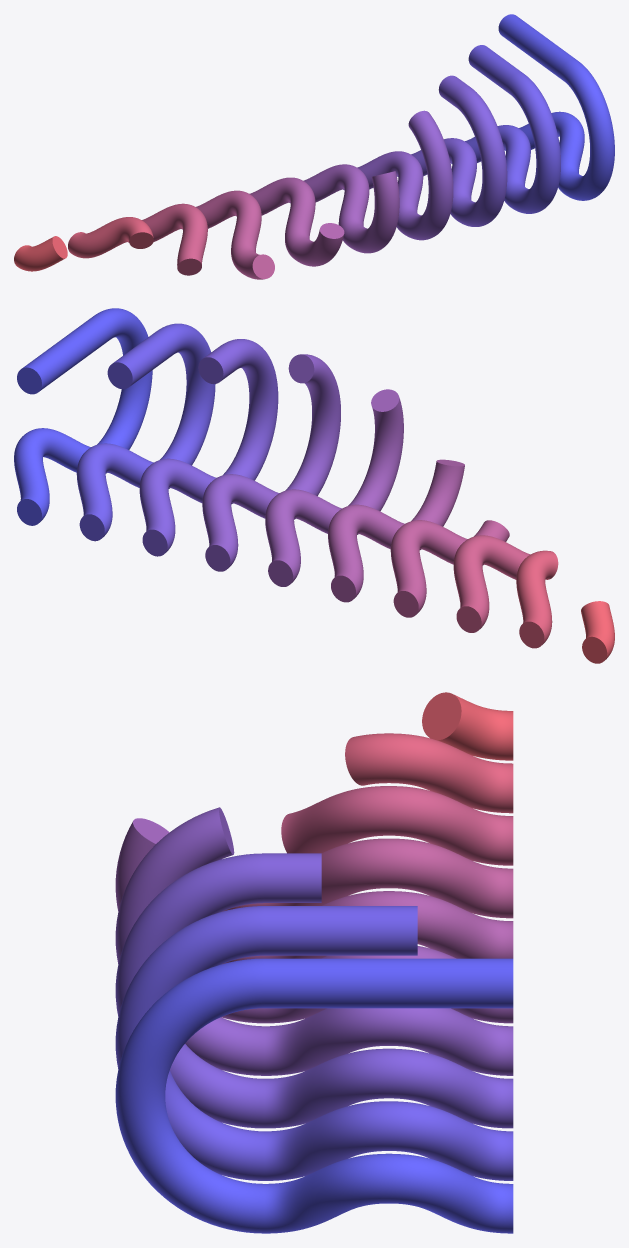
File: takePathFraction.glb
3 views of the same model, one above another, from view 1: azimuth 30°, elevation 25°; view 2: azimuth 150°, elevation 25°; view 3: azimuth 270°, elevation 25° (orthographic). The views are drawn at different scales.
Visible parts, largest first — view 1: =>[0:1:1:11], =>[0:1:1:10], =>[0:1:1:9], =>[0:1:1:8], =>[0:1:1:7], =>[0:1:1:6], =>[0:1:1:5], =>[0:1:1:4], =>[0:1:1:3], =>[0:1:1:2]; view 2: =>[0:1:1:11], =>[0:1:1:10], =>[0:1:1:9], =>[0:1:1:8], =>[0:1:1:7], =>[0:1:1:6], =>[0:1:1:5], =>[0:1:1:4], =>[0:1:1:3], =>[0:1:1:2]; view 3: =>[0:1:1:11], =>[0:1:1:10], =>[0:1:1:9], =>[0:1:1:8], =>[0:1:1:4], =>[0:1:1:5], =>[0:1:1:3], =>[0:1:1:6], =>[0:1:1:7], =>[0:1:1:2].
Boxes of the visible parts, x1=… form: =>[0:1:1:11]: x1=498, y1=14, x2=614, y2=200; =>[0:1:1:10]: x1=451, y1=45, x2=560, y2=213; =>[0:1:1:9]: x1=397, y1=75, x2=507, y2=226; =>[0:1:1:8]: x1=343, y1=110, x2=453, y2=240; =>[0:1:1:7]: x1=289, y1=164, x2=399, y2=253; =>[0:1:1:6]: x1=235, y1=177, x2=344, y2=266; =>[0:1:1:5]: x1=182, y1=190, x2=274, y2=279; =>[0:1:1:4]: x1=128, y1=203, x2=207, y2=275; =>[0:1:1:3]: x1=68, y1=217, x2=153, y2=258; =>[0:1:1:2]: x1=14, y1=236, x2=67, y2=271; =>[0:1:1:11]: x1=14, y1=308, x2=152, y2=525; =>[0:1:1:10]: x1=76, y1=323, x2=215, y2=541; =>[0:1:1:9]: x1=139, y1=339, x2=278, y2=556; =>[0:1:1:8]: x1=202, y1=354, x2=340, y2=571; =>[0:1:1:7]: x1=265, y1=389, x2=403, y2=586; =>[0:1:1:6]: x1=328, y1=459, x2=464, y2=602; =>[0:1:1:5]: x1=390, y1=520, x2=509, y2=617; =>[0:1:1:4]: x1=453, y1=535, x2=530, y2=632; =>[0:1:1:3]: x1=516, y1=550, x2=558, y2=648; =>[0:1:1:2]: x1=581, y1=601, x2=614, y2=663; =>[0:1:1:11]: x1=115, y1=958, x2=513, y2=1233; =>[0:1:1:10]: x1=115, y1=906, x2=513, y2=1180; =>[0:1:1:9]: x1=115, y1=853, x2=513, y2=1128; =>[0:1:1:8]: x1=115, y1=807, x2=513, y2=1075; =>[0:1:1:4]: x1=281, y1=786, x2=513, y2=865; =>[0:1:1:5]: x1=222, y1=838, x2=513, y2=918; =>[0:1:1:3]: x1=345, y1=733, x2=513, y2=813; =>[0:1:1:6]: x1=222, y1=891, x2=513, y2=964; =>[0:1:1:7]: x1=115, y1=818, x2=513, y2=1023; =>[0:1:1:2]: x1=422, y1=692, x2=513, y2=760.
Bounding box in the file's own units: 9.9 × 2.4 × 3.2.
